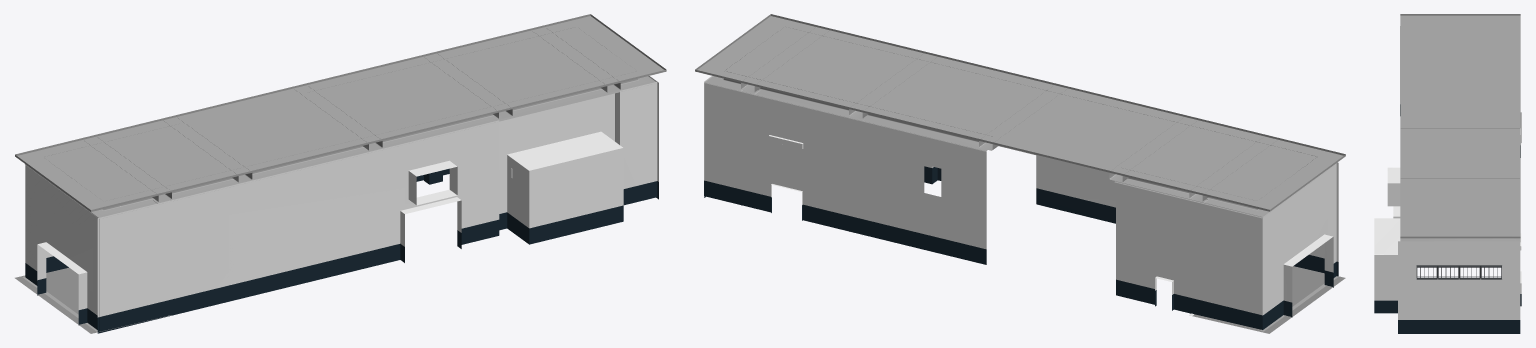
File: SM_H_Building_Tide_Corridor_06_ATLAS.fbx
3 views of the same model, side by side, from view 1: azimuth 30°, elevation 25°; view 2: azimuth 150°, elevation 25°; view 3: azimuth 270°, elevation 25° (orthographic). The views are drawn at different scales.
Visible parts, largest first — view 1: SM_H_Building_Tide_Corridor_06_ATLAS; view 2: SM_H_Building_Tide_Corridor_06_ATLAS; view 3: SM_H_Building_Tide_Corridor_06_ATLAS.
Part boxes in pixels (x1,y1,x2,y2): SM_H_Building_Tide_Corridor_06_ATLAS: [15, 14, 666, 333]; SM_H_Building_Tide_Corridor_06_ATLAS: [695, 14, 1345, 333]; SM_H_Building_Tide_Corridor_06_ATLAS: [1374, 14, 1521, 333].
Size of the model in its own units: 5408 by 1512 by 1139.
